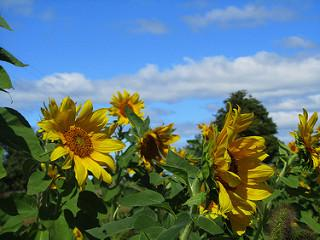sunflower: (197, 105, 276, 221), (40, 93, 124, 189), (294, 108, 320, 181), (138, 125, 180, 170), (110, 90, 147, 123)
